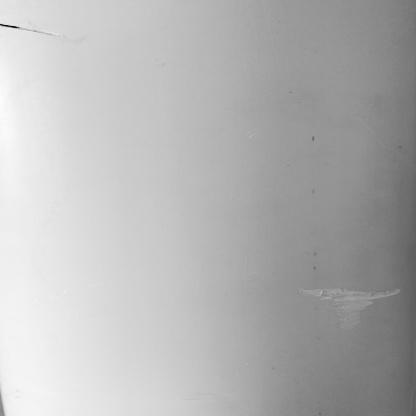sunshang: (295, 275, 409, 327)
